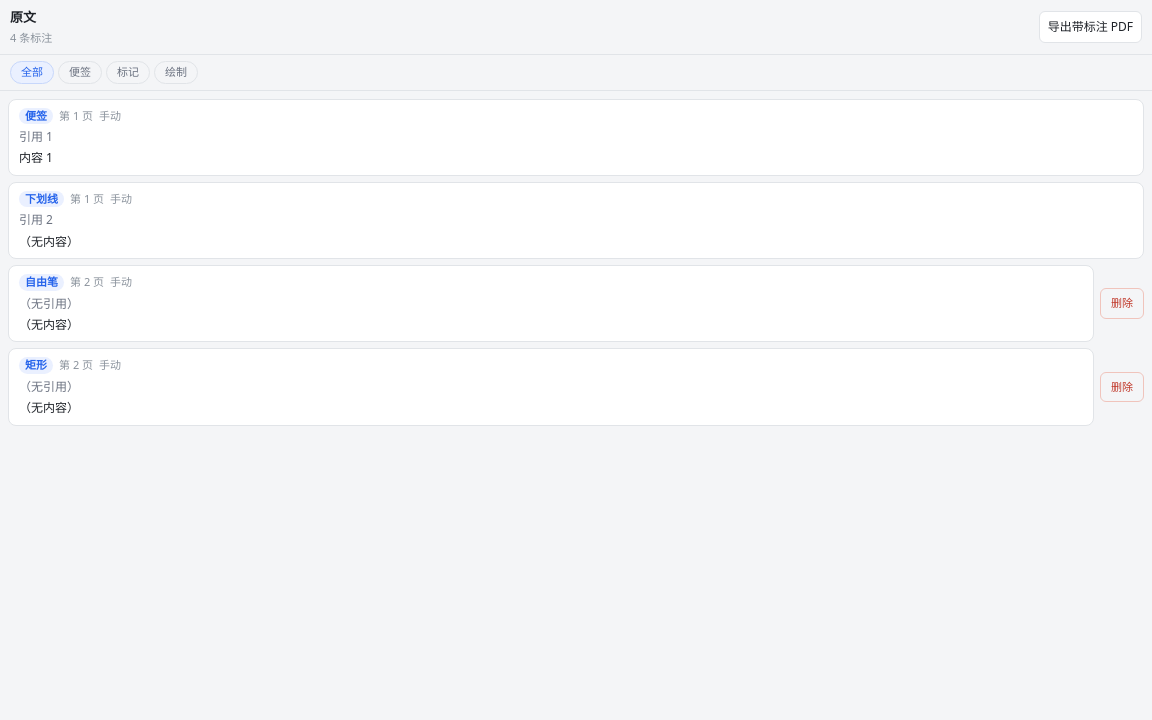
Test: StickyNotesPanel 标注筛选与列表 › 导出提示把无法导出的条目标为已跳过，不再只归因于页码
The width and height of the screenshot is (1152, 720).
Step 1. Click the button "导出带标注 PDF" → (1090, 27), box x1=1039 y1=11 x2=1142 y2=43
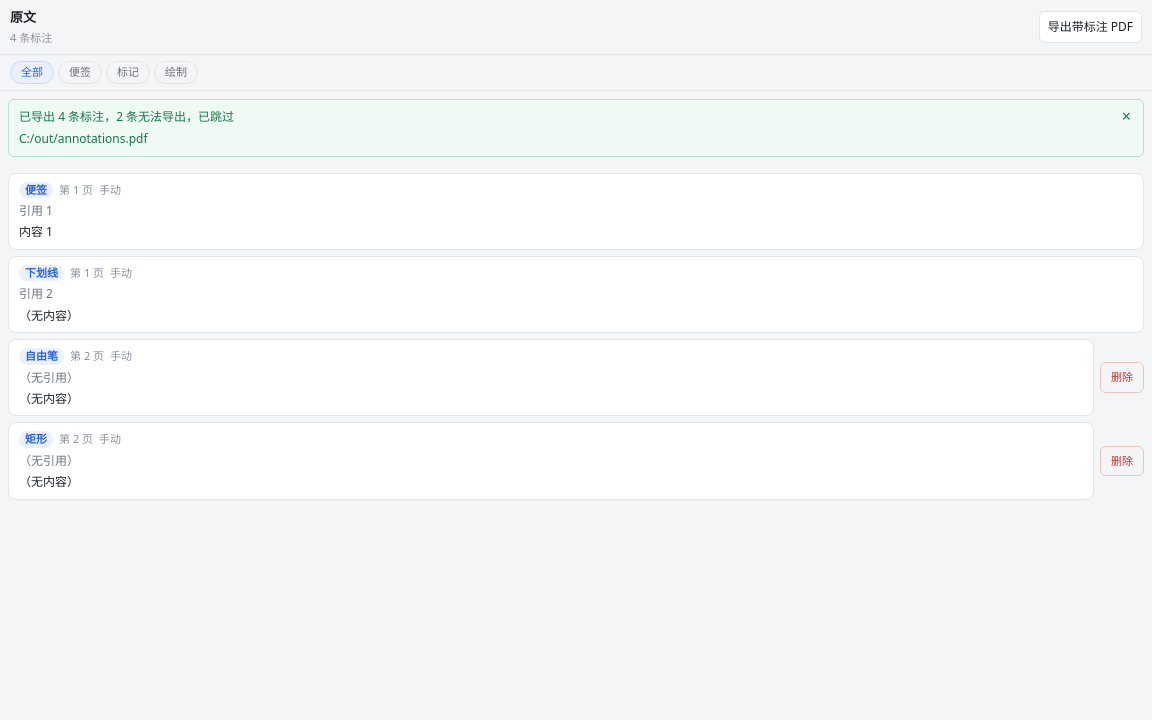
Expected: the text "已导出 4 条标注，2 条无法导出，已跳过" is shown, x1=19 y1=108 x2=234 y2=124
